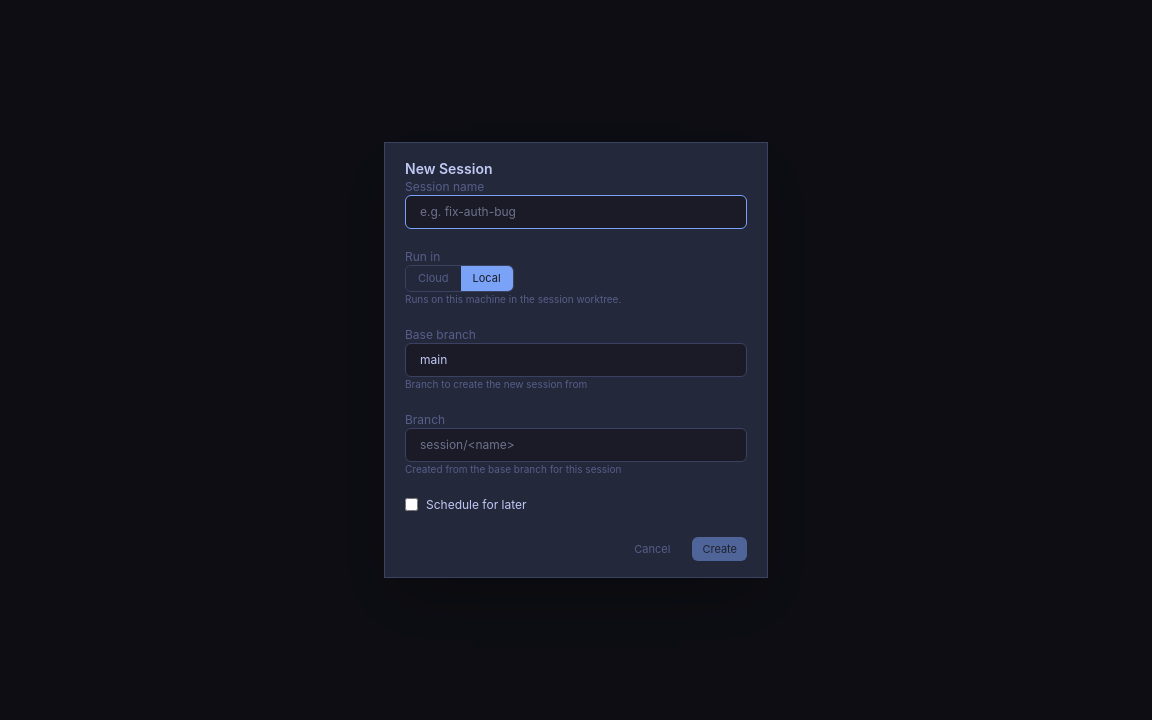
Test case: <CreateSessionDialog> branch field › shows an inline error and blocks submit for an invalid branch
Type "x" into the field labelled "Session name" at (576, 212), box top-left (405, 195), bottom-right (747, 229)
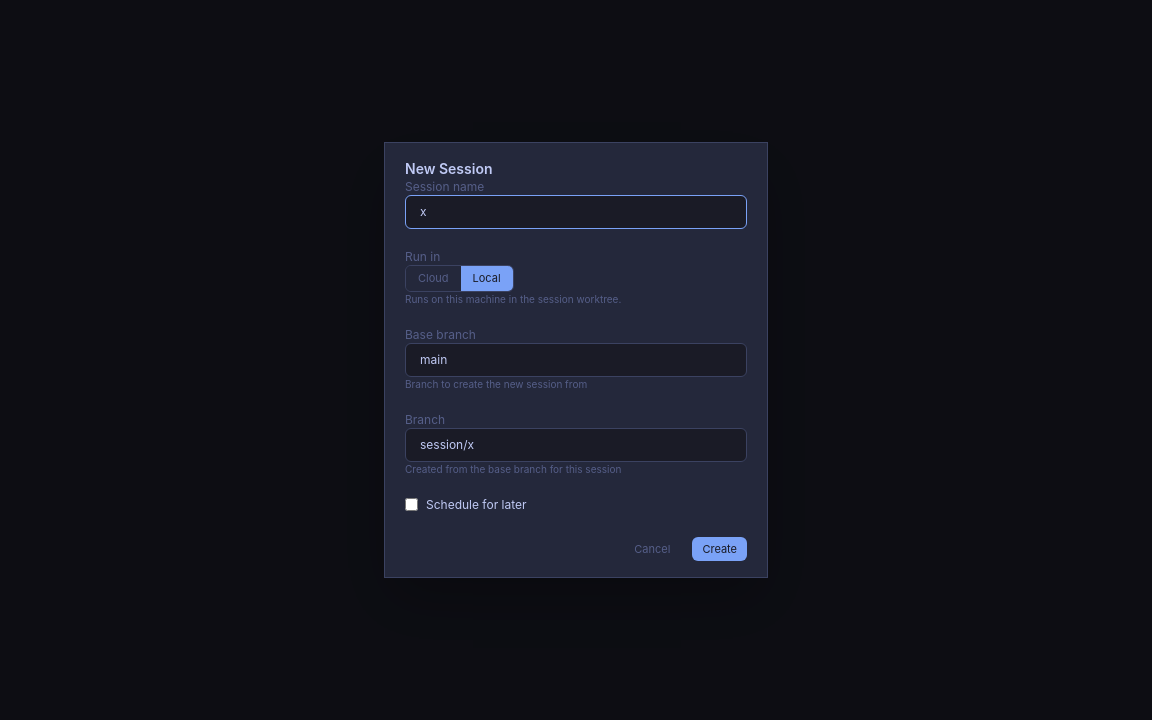
Replace the text in the field labelled "Branch" with "bad name" at (576, 444), box top-left (405, 428), bottom-right (747, 462)
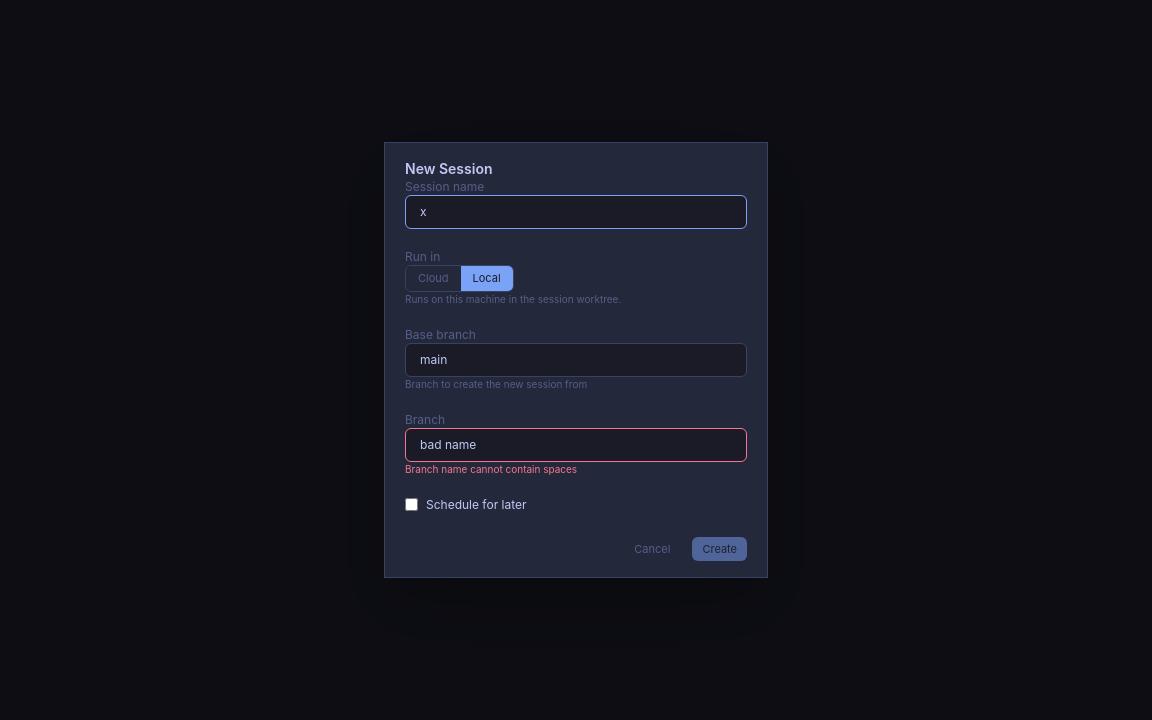
Expected: the text "Branch name cannot contain spaces" is shown, top-left (405, 462), bottom-right (577, 474)
Expected: the button "Create" is disabled, top-left (692, 536), bottom-right (747, 561)
